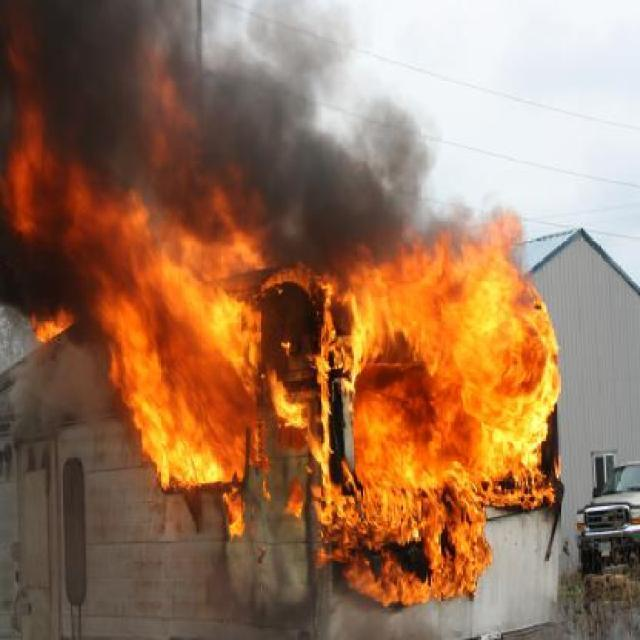Fire: (0, 33, 292, 547), (290, 202, 573, 612)
Smoke: (0, 0, 498, 313)
